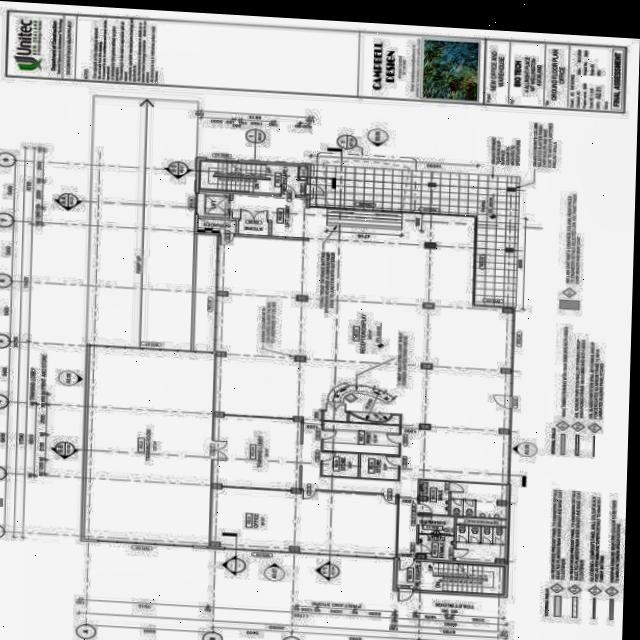room: (322, 420, 400, 453), (449, 481, 508, 518), (419, 479, 450, 514), (359, 453, 399, 479), (455, 542, 506, 562), (322, 451, 359, 476), (417, 534, 454, 559), (197, 191, 231, 216), (418, 514, 455, 534), (197, 217, 236, 233), (238, 220, 269, 235), (456, 516, 505, 525), (493, 526, 506, 544), (324, 410, 347, 420), (450, 498, 463, 515), (456, 524, 468, 541), (469, 525, 480, 542), (481, 525, 492, 542), (464, 499, 475, 516)
